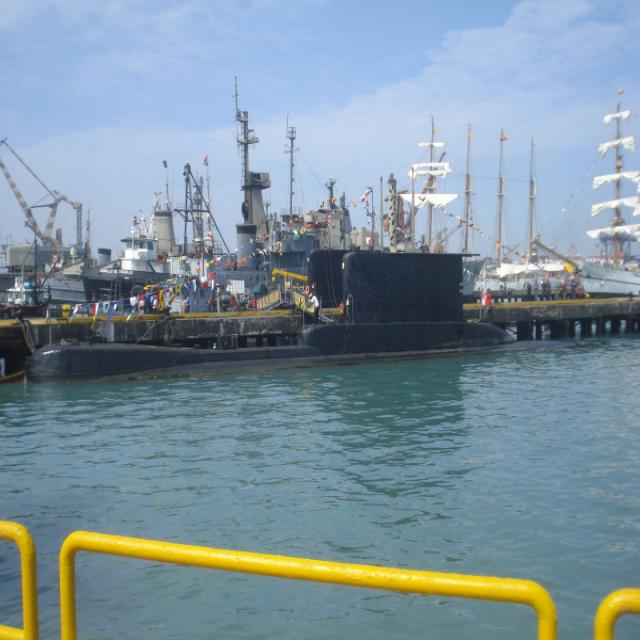submarine: (29, 253, 520, 384)
